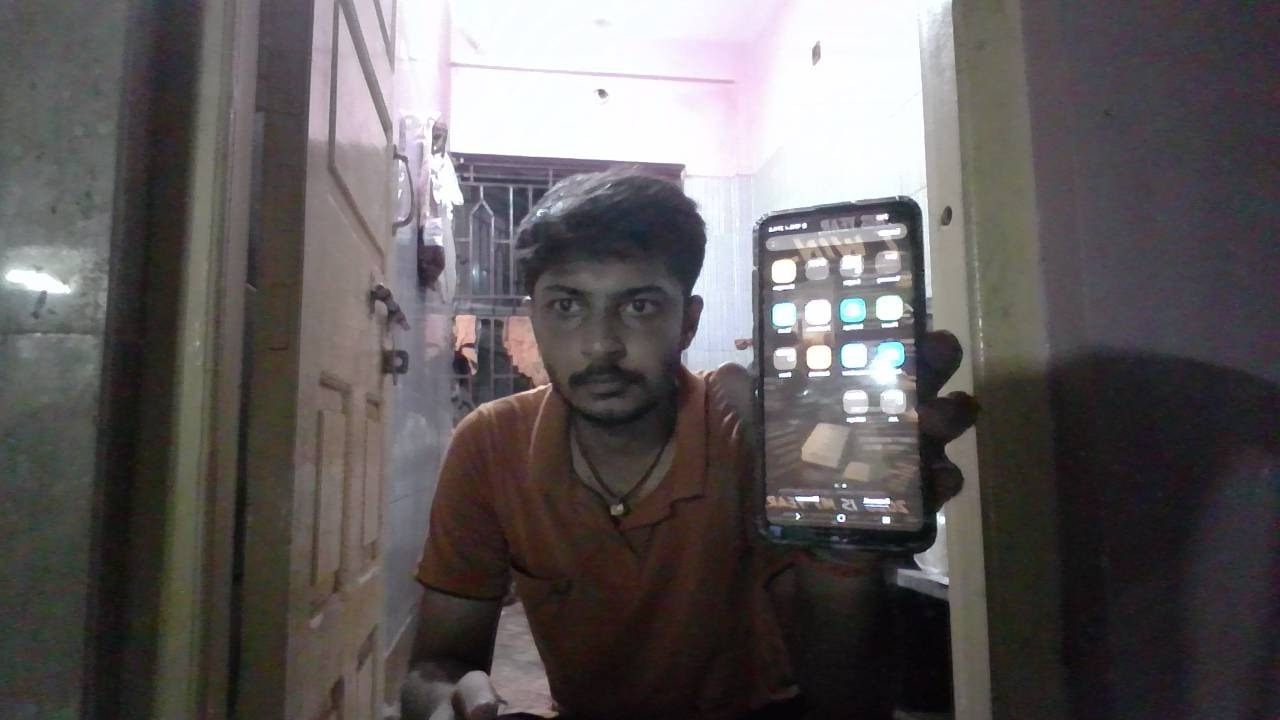red_box: (419, 396, 609, 582), (621, 391, 719, 528), (679, 497, 712, 571)
